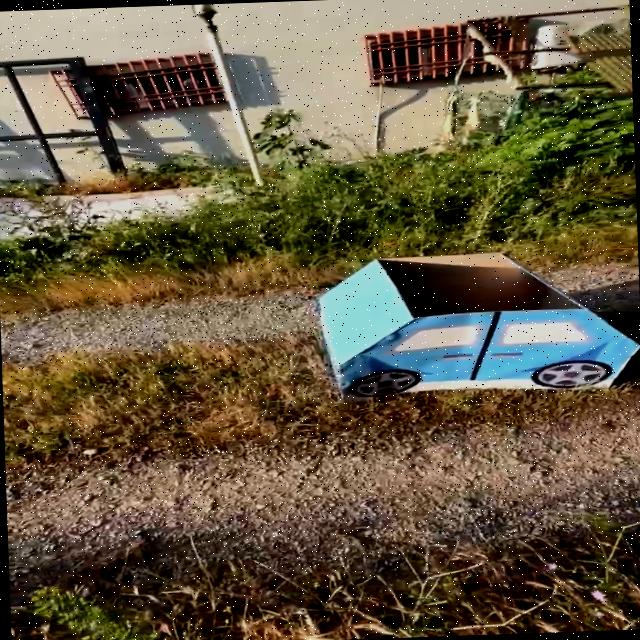blue_car: (274, 217, 640, 415)
